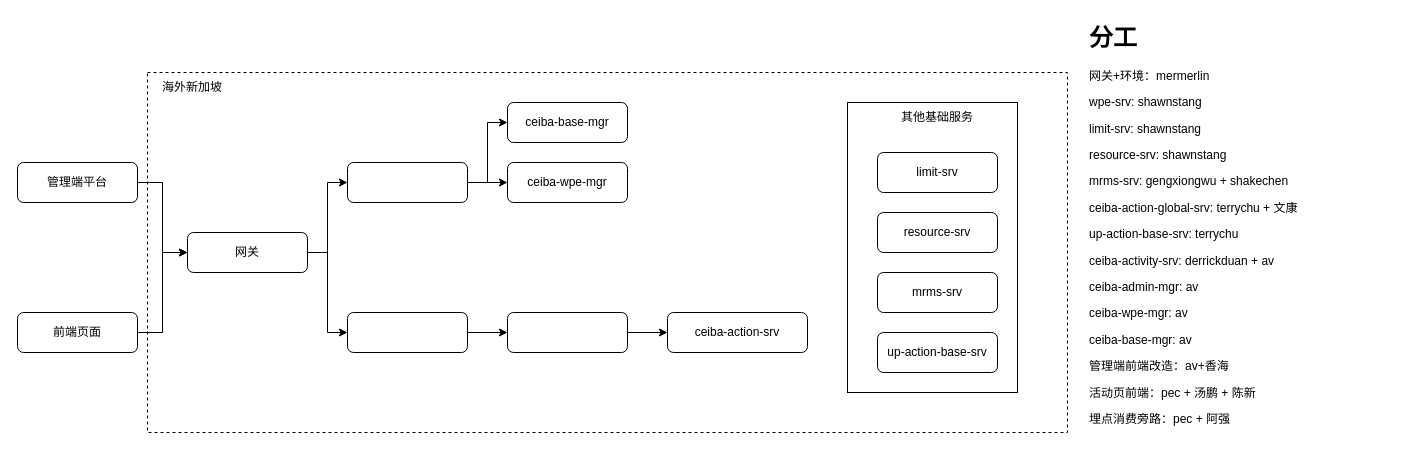
Some shapes in this 1425 by 467 pixel diagram are drawn without their labels. Here are the shapes that lost their labels. From the top down, the centre of each, then its label:
point 407,182: ceiba-admin-mgr
point 407,332: ceiba-activity-srv
point 567,332: wpe-srv
